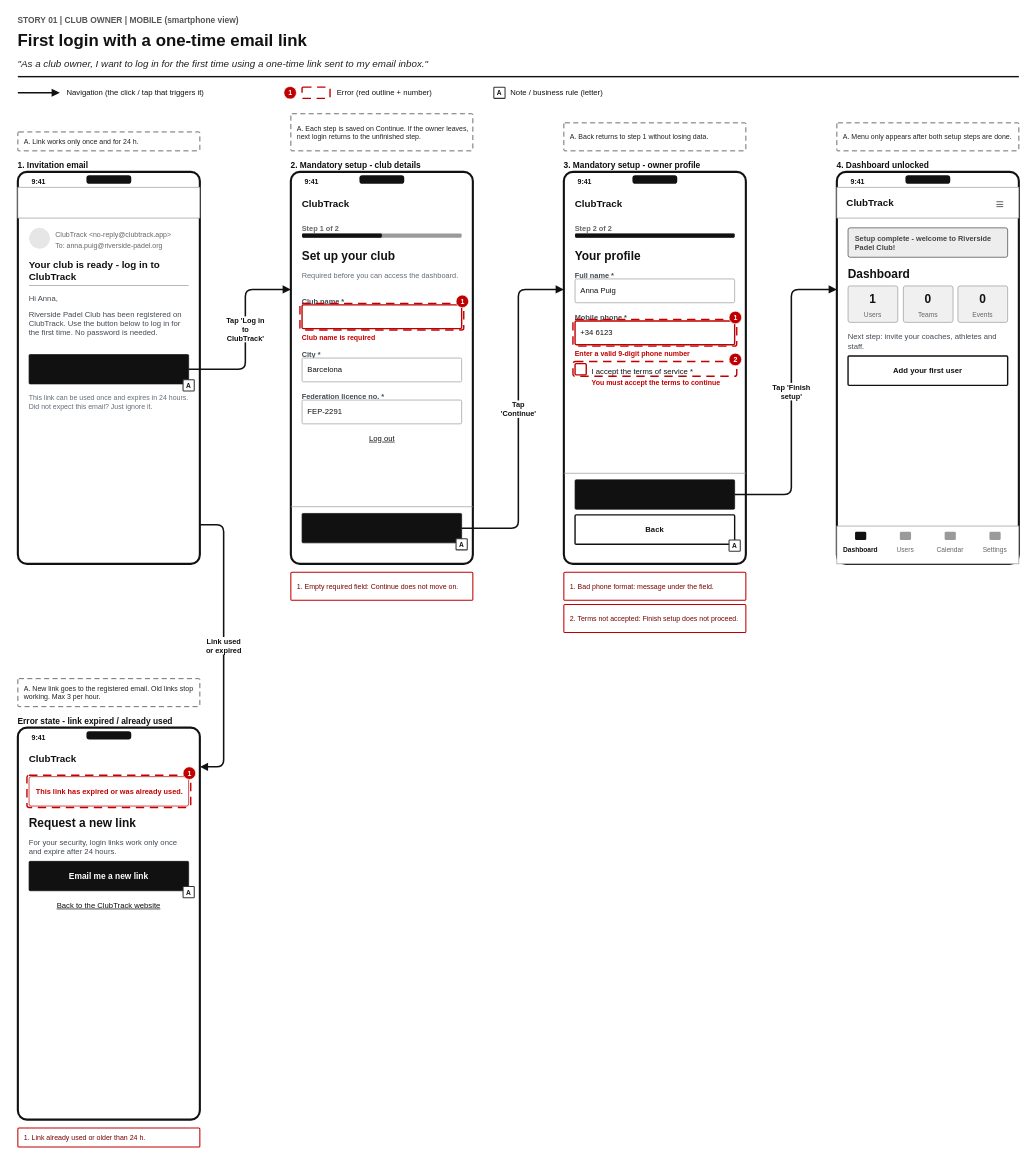
Image size: 1032x1159. Some labels were removed from this diagram. The shapes that lost their labels are listed below. From the top down, each one's centre as x and y in pixels, then its label:
the point at 108,202: < Inbox
the point at 108,369: Log in to ClubTrack
the point at 654,494: Finish setup
the point at 381,528: Continue
